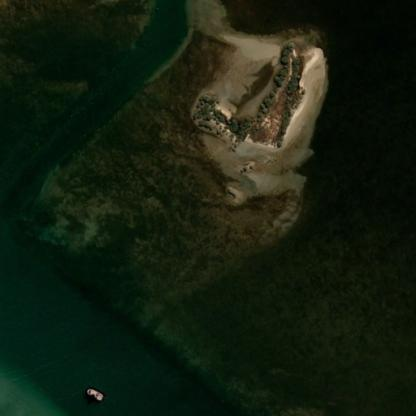ship: (74, 382, 109, 404)
